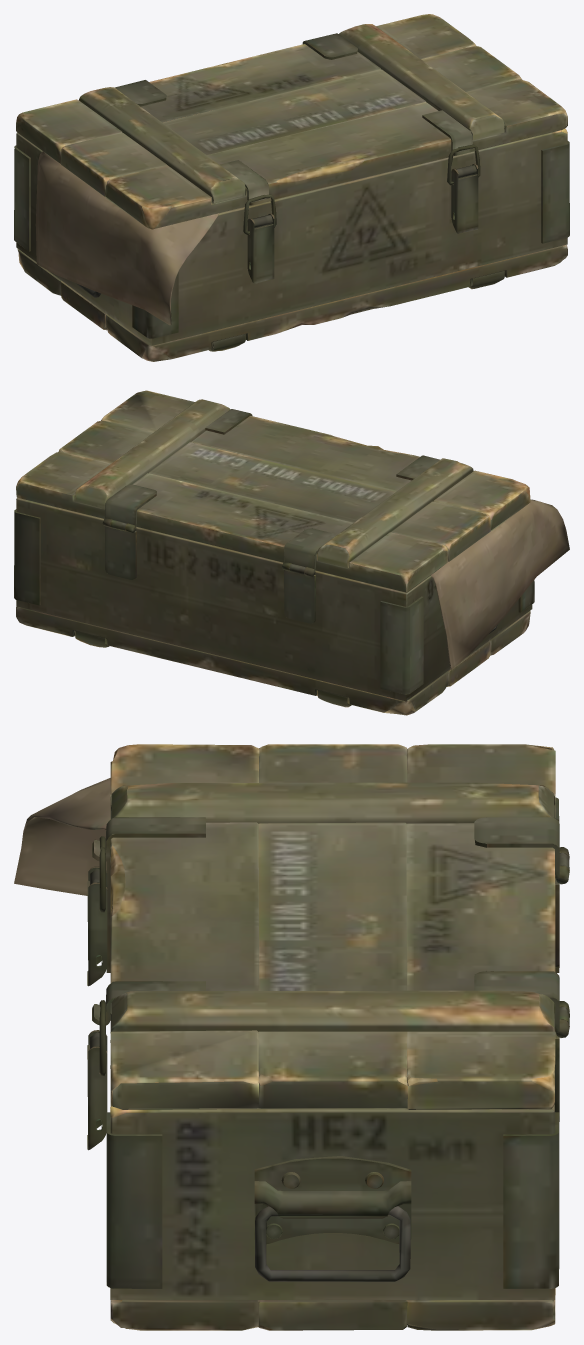
File: wooden_crate.glb
3 renders of one model, top to bottom at view 1: azimuth 30°, elevation 25°; view 2: azimuth 150°, elevation 25°; view 3: azimuth 270°, elevation 25°, orthographic. The views are drawn at different scales.
Parts seen in each view (by area): view 1: wooden_crate; view 2: wooden_crate; view 3: wooden_crate.
Boxes of the visible parts, bbox=[...] form: wooden_crate: bbox=[14, 14, 569, 361]; wooden_crate: bbox=[14, 390, 569, 715]; wooden_crate: bbox=[14, 744, 569, 1330].
Bounding box in the file's own units: 0.8157 × 0.3008 × 0.5381.
Materials: 1 (1 with a texture image).
